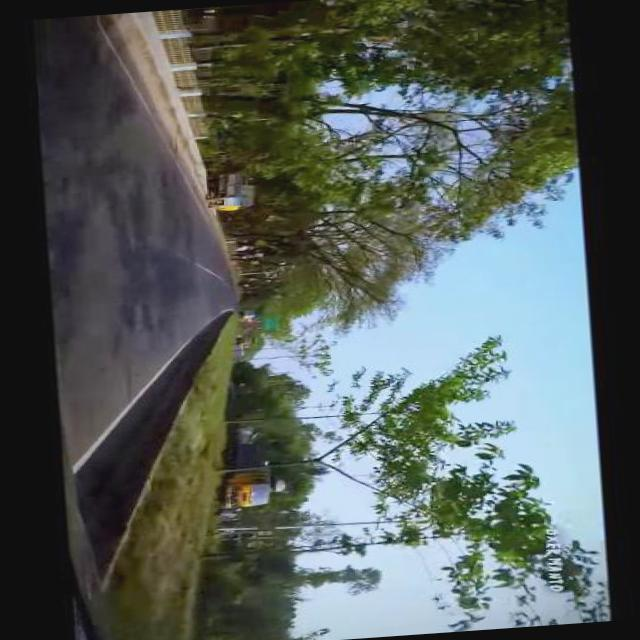truck: (216, 438, 289, 512), (202, 166, 260, 211)
